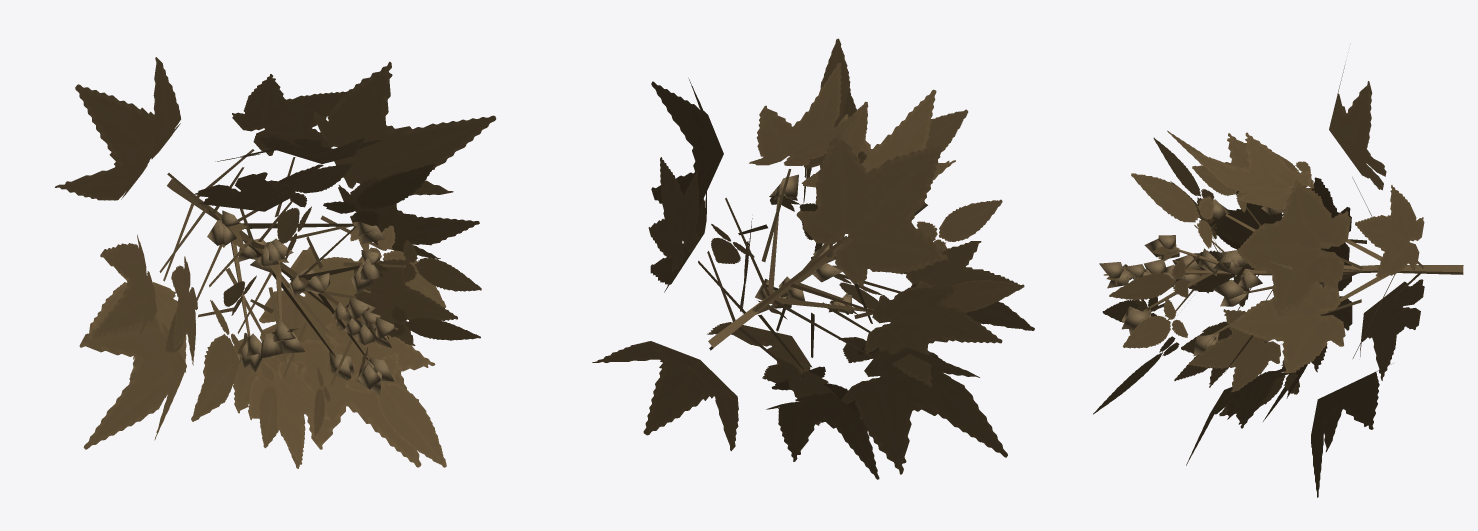
The model's file is p_male_afghan_flowering_c3_cards.obj.
The picture shows the model from 3 angles, left to right: view 1: azimuth 30°, elevation 25°; view 2: azimuth 150°, elevation 25°; view 3: azimuth 270°, elevation 25°; orthographic projection. The views are drawn at different scales.
Bounding box in the file's own units: 1.36 × 1.36 × 1.13.
Materials: 1 (1 with a texture image).
